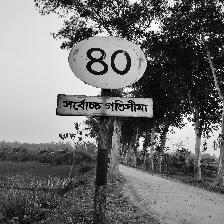Speed-limit: (57, 35, 153, 120)
